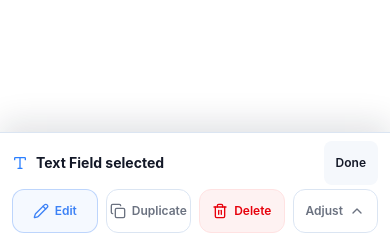
Test: MobileFieldSheet compact behaviour › expands advanced controls behind the Adjust toggle and collapses again
Click the button with test id "mobile-field-adjust-toggle" at (335, 211), box [292, 189, 378, 233]
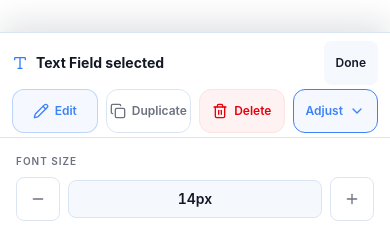
Expected: the element with test id "mobile-field-advanced" is shown, [0, 137, 389, 237]
Expected: the text "Font Size" is shown, [16, 155, 77, 167]
Click the button with test id "mobile-field-adjust-toggle" at (335, 111), box [292, 89, 378, 133]
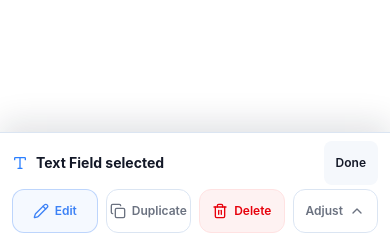
Expected: the element with test id "mobile-field-advanced" is gone
